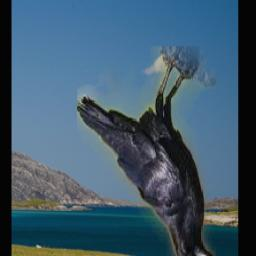Crow: (76, 47, 215, 256)
